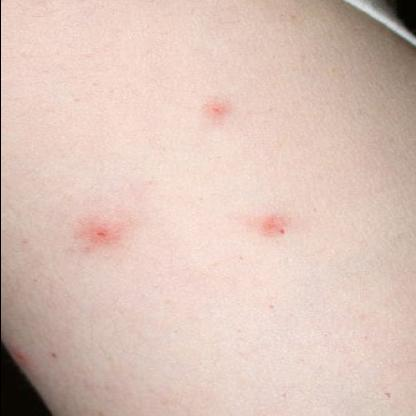Bed Bug: (70, 214, 124, 254), (246, 210, 293, 247), (196, 92, 240, 131), (7, 339, 41, 362)
